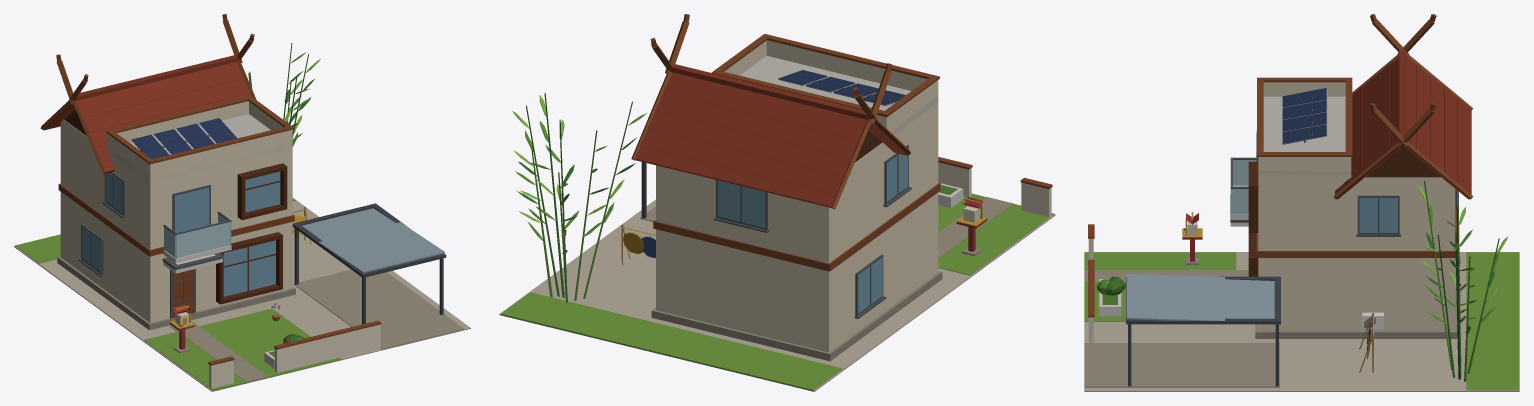
File: house12_1.glb
The picture shows the model from 3 angles, left to right: view 1: azimuth 30°, elevation 25°; view 2: azimuth 150°, elevation 25°; view 3: azimuth 270°, elevation 25°; orthographic projection. The views are drawn at different scales.
Visible parts, largest first — view 1: body; view 2: body; view 3: body.
Part boxes in pixels (bbox=[...]): body: bbox=[14, 14, 470, 391]; body: bbox=[499, 14, 1055, 391]; body: bbox=[1084, 14, 1519, 391].
Size of the model in its own units: 12.87 by 9.92 by 15.9.
